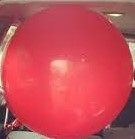Balloon: (1, 3, 134, 139)
